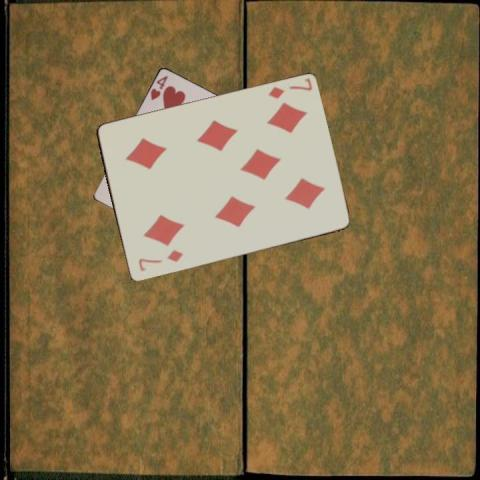4h: (148, 73, 169, 102)
7d: (134, 248, 184, 274), (265, 75, 313, 101)
